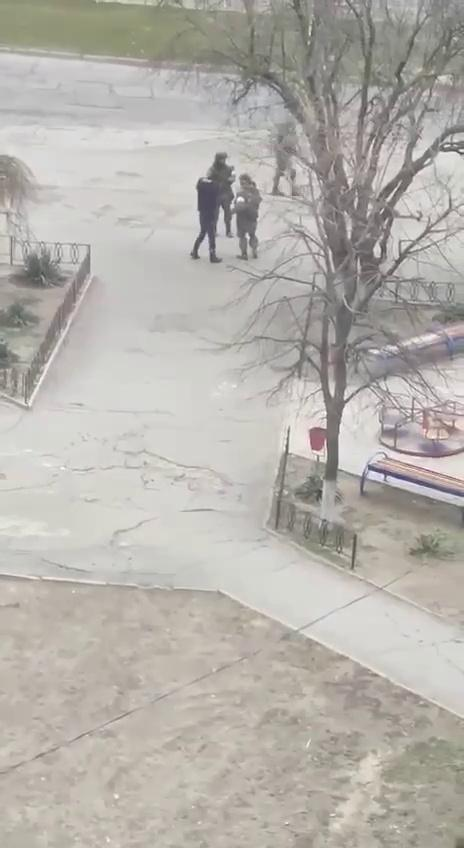person: (190, 168, 224, 264), (226, 174, 262, 262), (202, 151, 238, 238)
